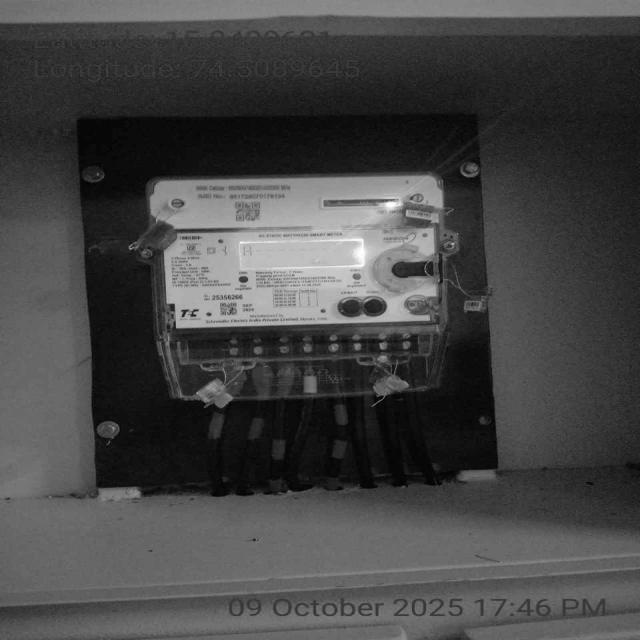meter: (151, 176, 442, 332)
